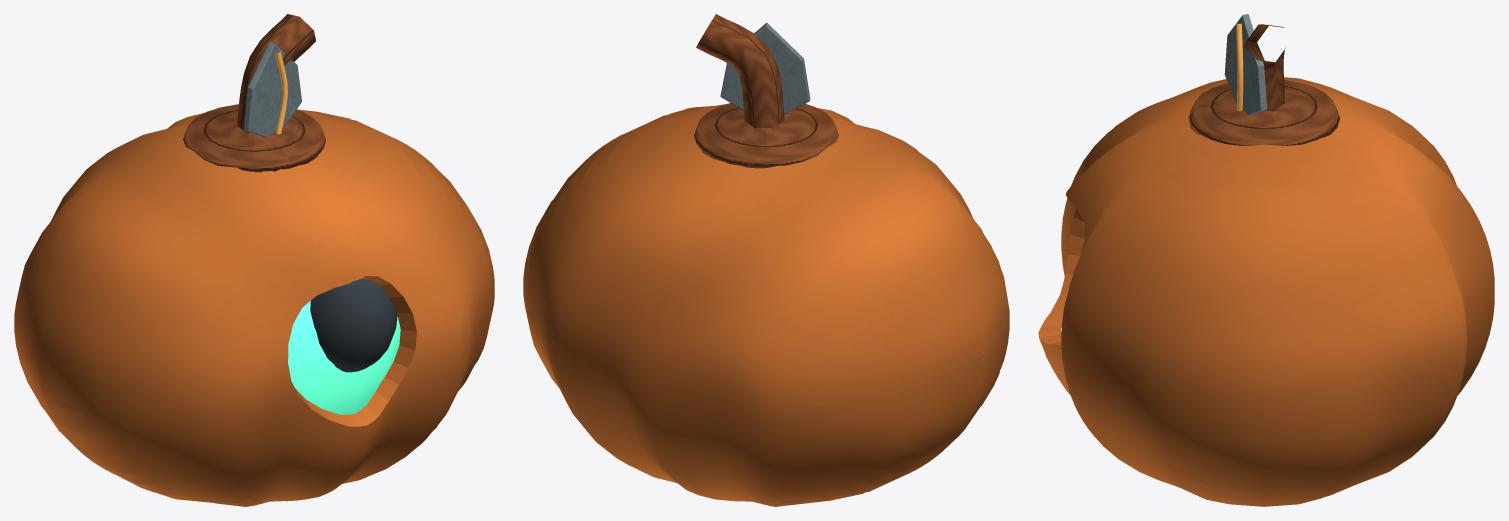
The model's file is eclipse-pumpkin.glb.
The picture shows the model from 3 angles, left to right: view 1: azimuth 30°, elevation 25°; view 2: azimuth 150°, elevation 25°; view 3: azimuth 270°, elevation 25°; orthographic projection. The views are drawn at different scales.
Visible parts, largest first — view 1: eclipse-pumpkin; view 2: eclipse-pumpkin; view 3: eclipse-pumpkin.
Boxes of the visible parts, box(x1,y1,x2,y2) form: eclipse-pumpkin: box(14, 14, 494, 506); eclipse-pumpkin: box(523, 14, 1009, 506); eclipse-pumpkin: box(1038, 14, 1494, 506).
Bounding box in the file's own units: 0.8 × 0.8072 × 0.7022.
Materials: 6 (3 with a texture image).
